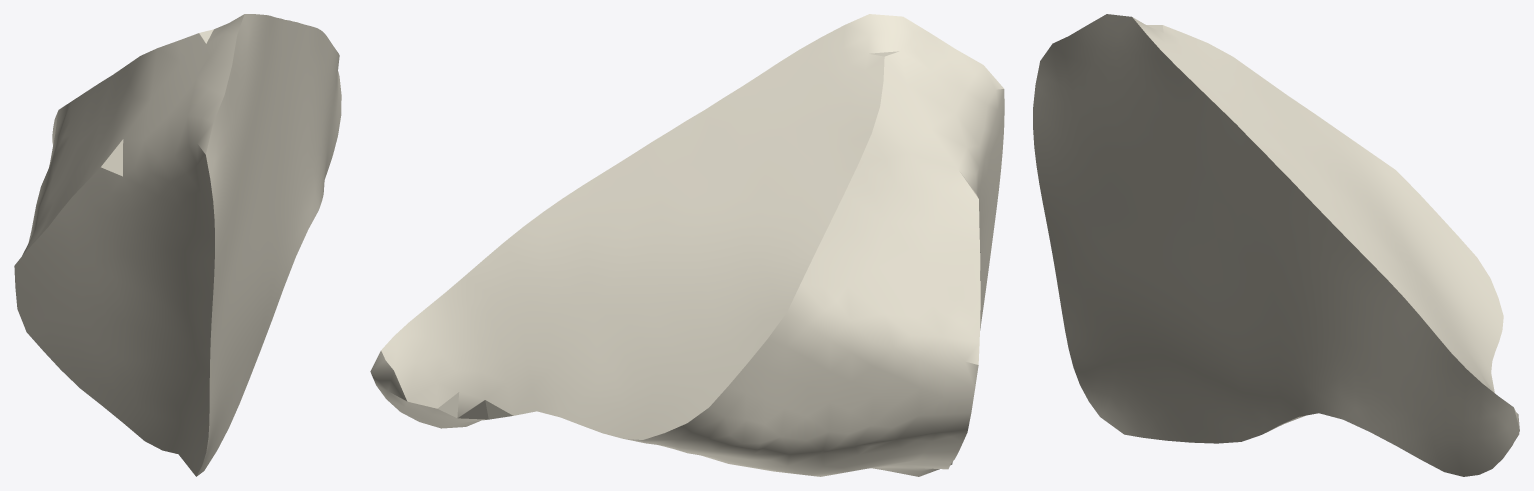
Rendered from fma16332_mm2357m.glb.
The picture shows the model from 3 angles, left to right: view 1: azimuth 30°, elevation 25°; view 2: azimuth 150°, elevation 25°; view 3: azimuth 270°, elevation 25°; orthographic projection. The views are drawn at different scales.
Parts seen in each view (by area): view 1: FMA16332_MM2357M; view 2: FMA16332_MM2357M; view 3: FMA16332_MM2357M.
Boxes of the visible parts, x1,y1,x2,y2 form: FMA16332_MM2357M: (14,14,341,476); FMA16332_MM2357M: (370,14,1004,476); FMA16332_MM2357M: (1033,14,1519,476).
Size of the model in its own units: 0.00964 by 0.0089 by 0.00894.
